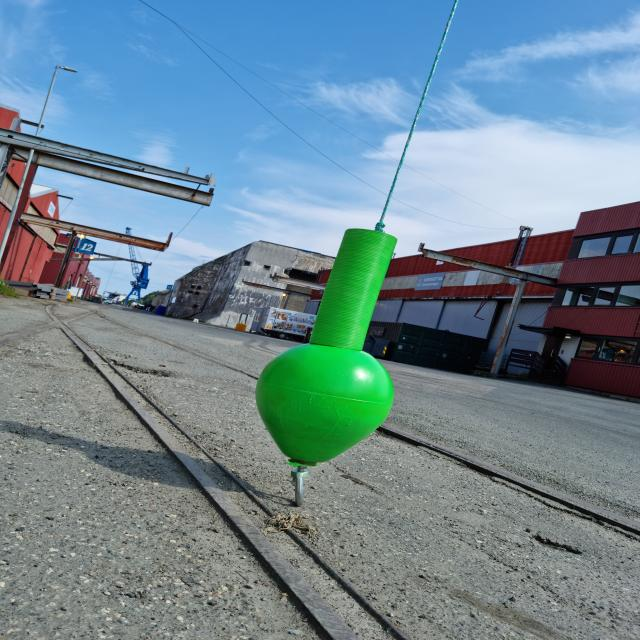green: (255, 230, 398, 468)
